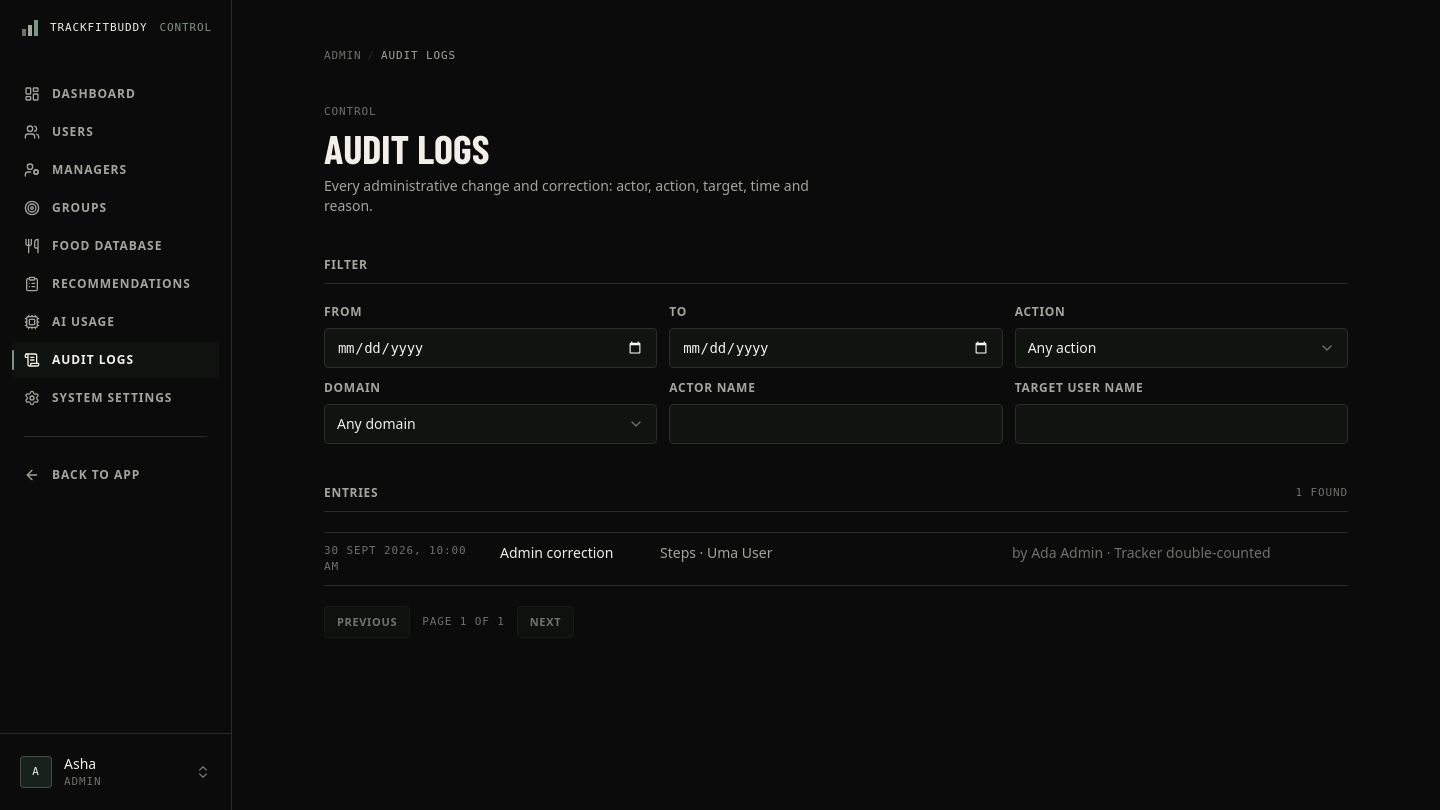
Test case: Admin audit and dashboard › lists audit entries and opens field-level detail
Expected: the heading "Audit Logs" is shown, [324,124,489,172]
Click the button "Admin correction" at [395, 550], box [324,533,1348,585]
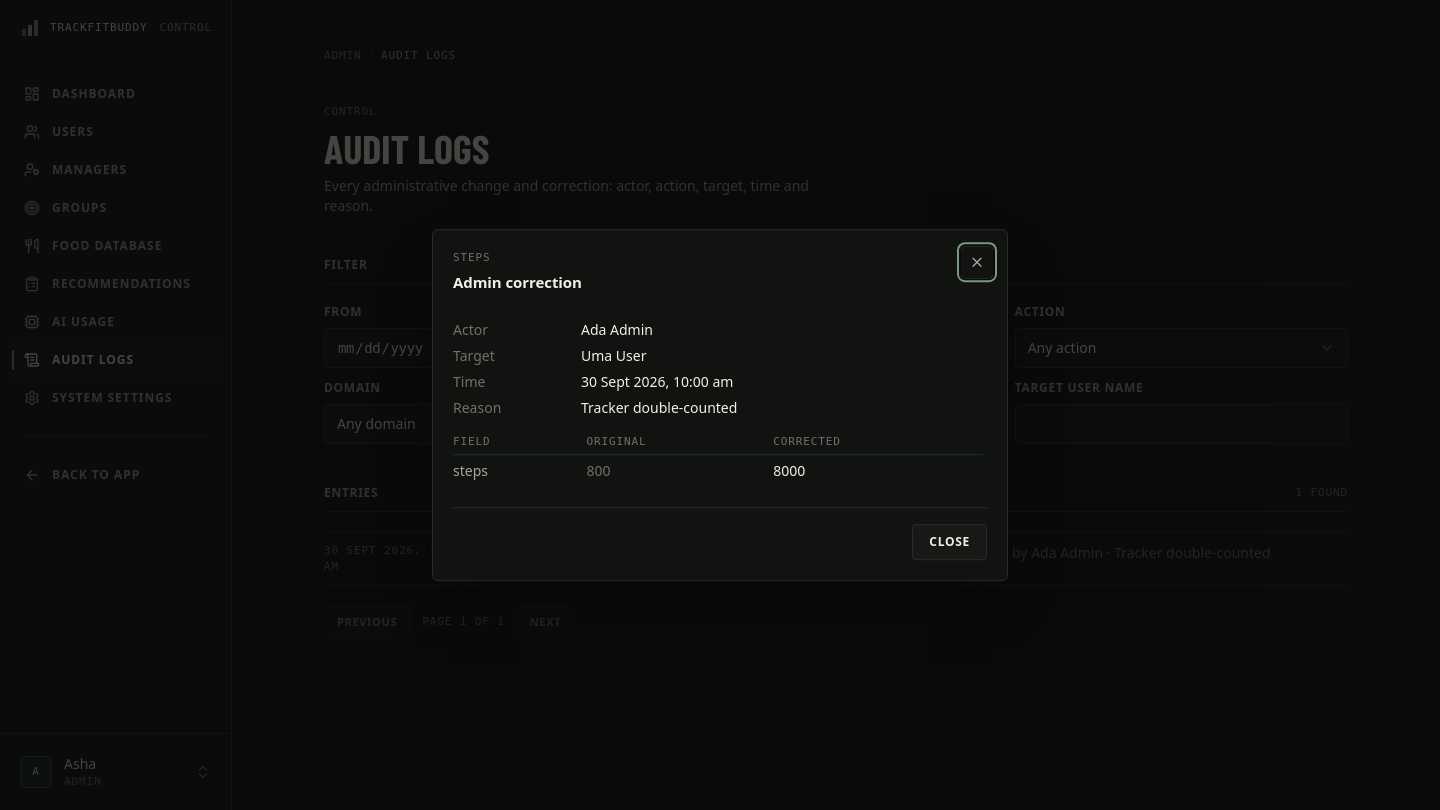
Result: the row "steps" reads "steps 800 8000" at [453,454,983,487]
Result: the dialog shows "Ada Admin" at [581,320,653,339]
Result: the dialog shows "Tracker double-counted" at [581,398,737,417]
